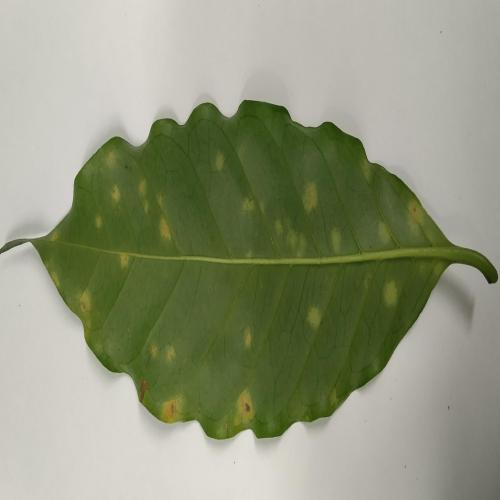phoma: (107, 151, 114, 166)
